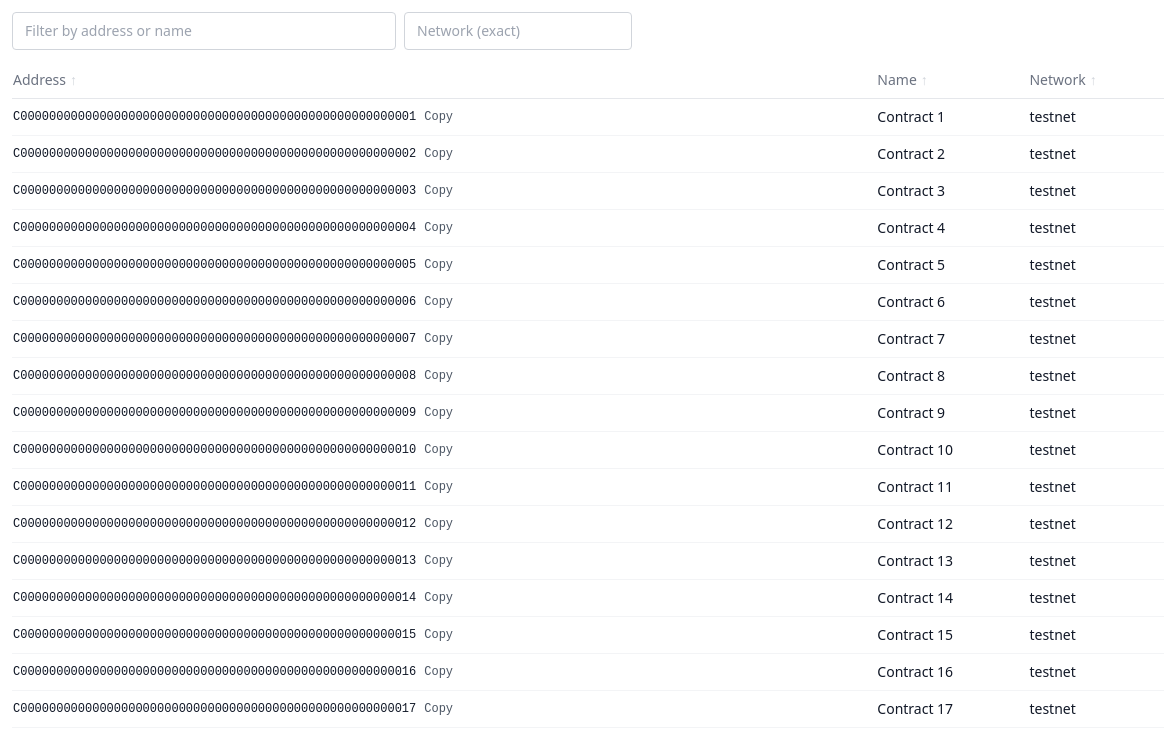
Test: ContractsTable › applies the name filter server-side (debounced)
Type "usdc" into the search field named "filter contracts".
click(204, 31); type("usdc")  # box [12, 12, 396, 50]
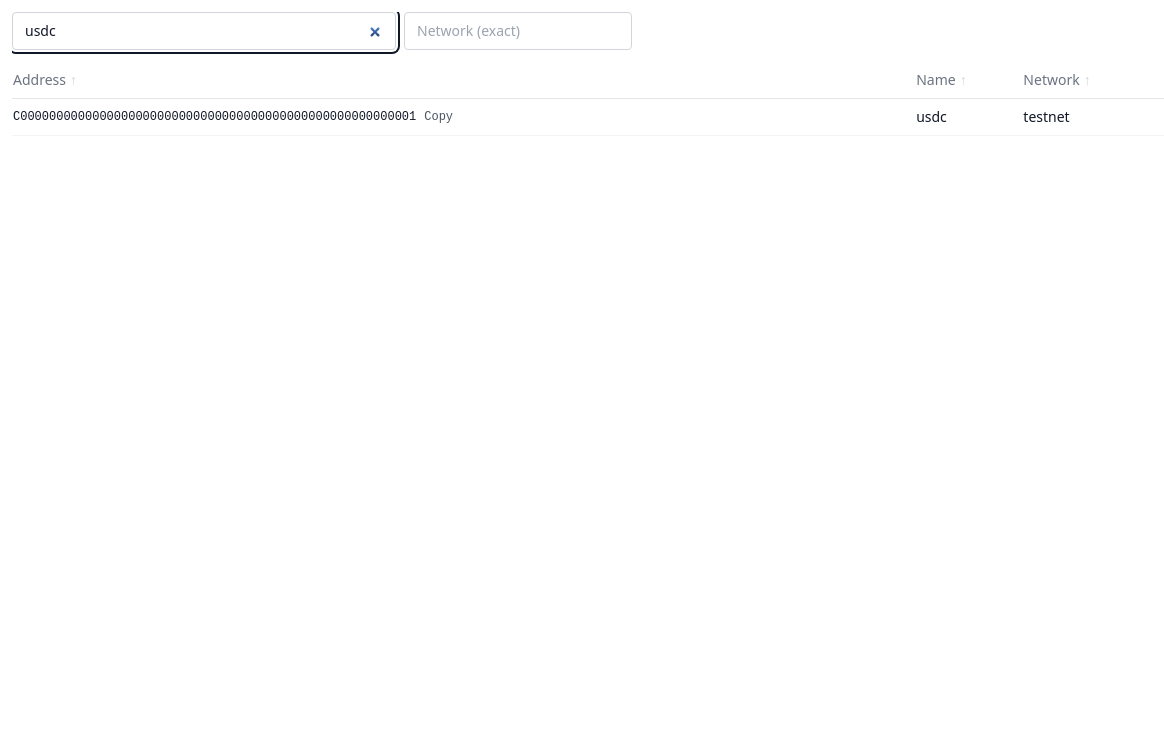
Check: the number of rows is 2, box [12, 62, 1163, 98]; [12, 99, 1163, 136]
